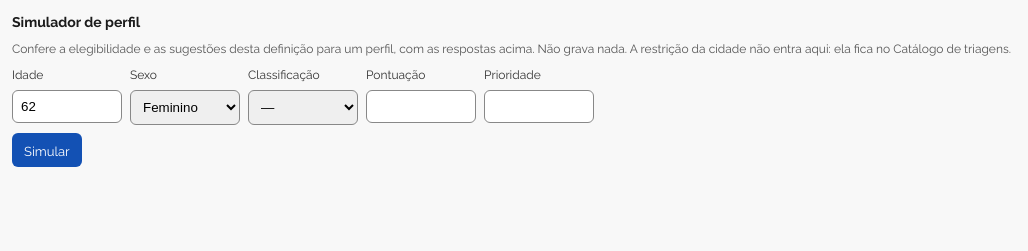
Scenario: OfferSimulator › avisos do gate aparecem sem bloquear e sem alerta
The width and height of the screenshot is (1028, 251).
Click the button "Simular".
click(47, 150)  # box [12,133,82,167]
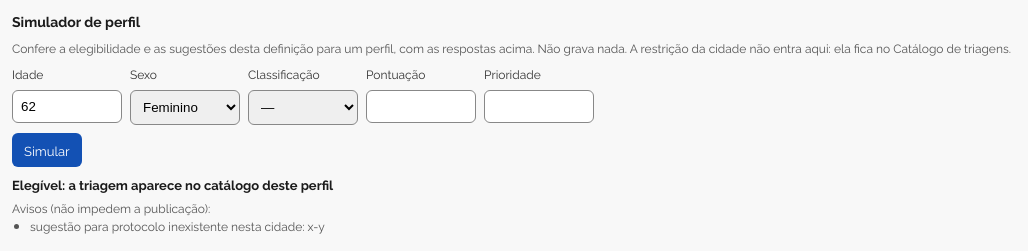
expect the list item "sugestão para protocolo inexistente nesta cidade: x-y" is shown: met, box [30,217,325,234]
expect the text "Elegível: a triagem aparece no catálogo deste perfil" is shown: met, box [12,175,333,193]
